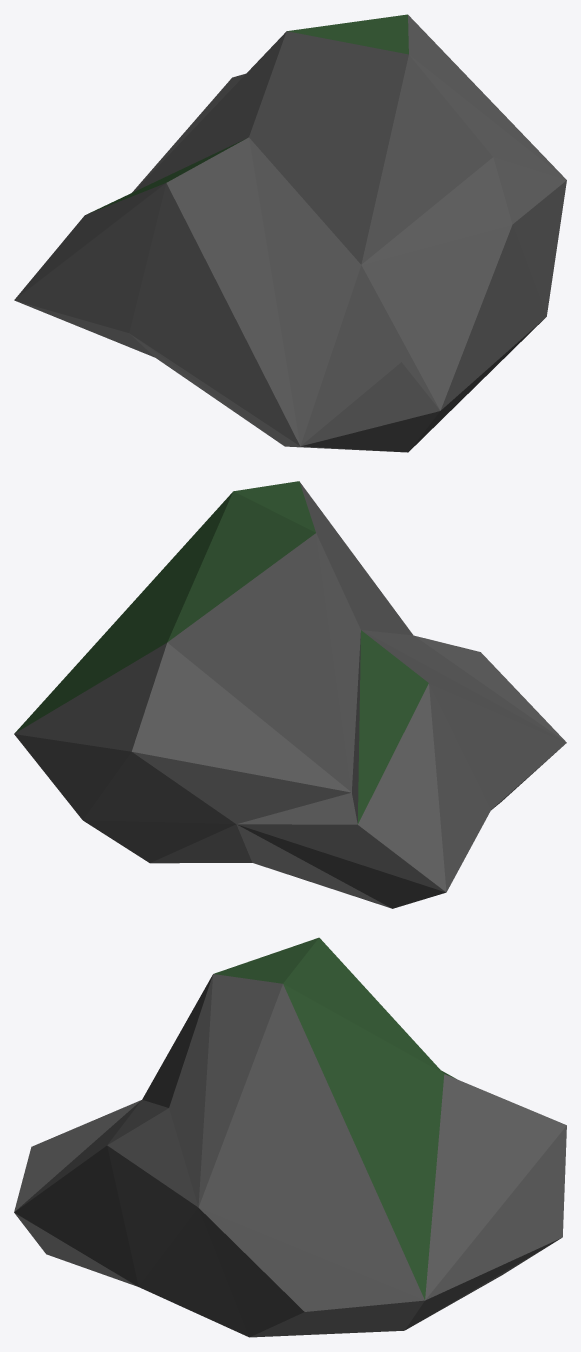
Rendered from rock4.fbx.
The picture shows the model from 3 angles, top to bottom: view 1: azimuth 30°, elevation 25°; view 2: azimuth 150°, elevation 25°; view 3: azimuth 270°, elevation 25°; orthographic projection. The views are drawn at different scales.
Parts seen in each view (by area): view 1: Rock4; view 2: Rock4; view 3: Rock4.
Part boxes in pixels (x1,y1,x2,y2): Rock4: [14, 14, 566, 452]; Rock4: [14, 481, 566, 908]; Rock4: [14, 937, 566, 1337].
Size of the model in its own units: 226 by 150 by 226.
